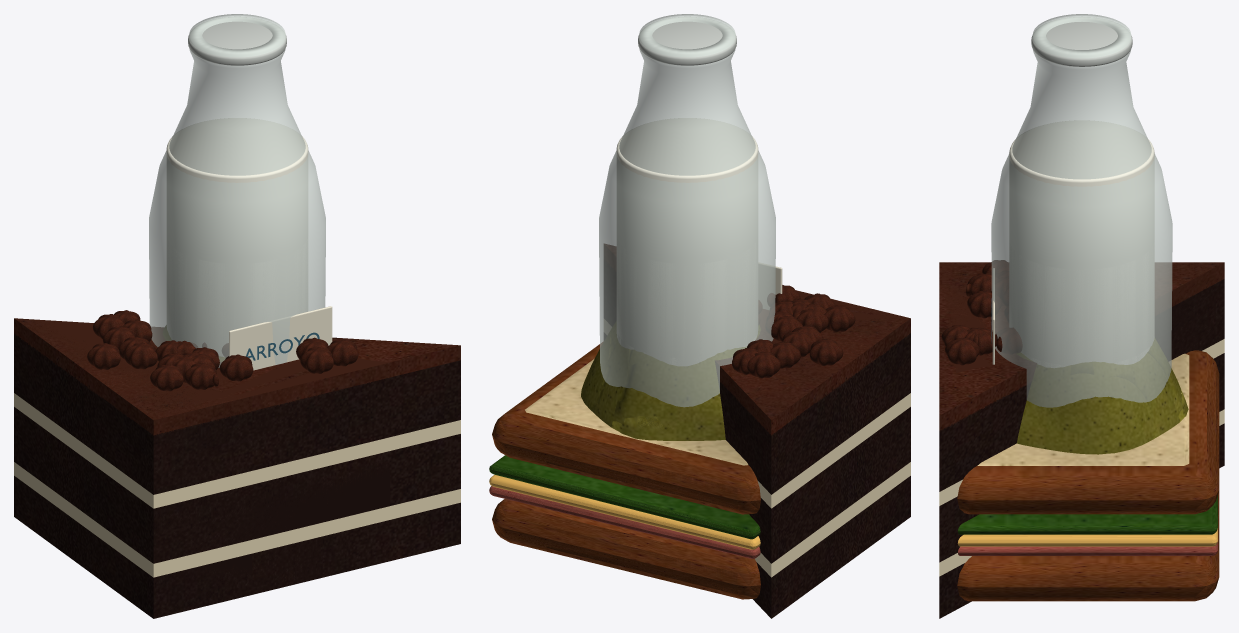
Rendered from pantry-food.glb.
3 views of the same model, side by side, from view 1: azimuth 30°, elevation 25°; view 2: azimuth 150°, elevation 25°; view 3: azimuth 270°, elevation 25° (orthographic). The views are drawn at different scales.
Visible parts, largest first — view 1: Milk bottle thick open neck, Milk bottle thick open neck.001, Chocolate cake Chocolate layer cake crumb.002, Milk remaining volume, Chocolate cake Chocolate layer cake crumb.001, Chocolate cake Chocolate layer cake crumb, Chocolate cake Cocoa buttercream frosting, Chocolate cake Chocolate layer cake crumb.004, Chocolate cake Vanilla cream filling.001, Chocolate cake Cocoa buttercream frosting.001, Chocolate cake Vanilla cream filling, Chocolate cake Cocoa buttercream frosting.002 (+19 smaller); view 2: Milk bottle thick open neck, Milk bottle thick open neck.001, Milk remaining volume, Sandwich golden crust.001, Chocolate cake Chocolate layer cake crumb.002, pear irregular skin, Chocolate cake Cocoa buttercream frosting, Sandwich golden crust, Chocolate cake Chocolate layer cake crumb.001, Chocolate cake Chocolate layer cake crumb, Sandwich Ruffled lettuce green, Sandwich golden crust.003 (+27 smaller); view 3: Milk bottle thick open neck, Milk bottle thick open neck.001, Milk remaining volume, Sandwich golden crust.001, pear irregular skin, Sandwich golden crust, Chocolate cake Cocoa buttercream frosting, Chocolate cake Chocolate layer cake crumb.002, Milk remaining volume.001, Sandwich Ruffled lettuce green, Sandwich tender crumb.001, Rolled aluminium neck lip (+21 smaller).
Part boxes in pixels (x1,y1,x2,y2): Milk bottle thick open neck: (149,14,325,367); Milk bottle thick open neck.001: (149,14,325,366); Chocolate cake Chocolate layer cake crumb.002: (14,333,460,494); Milk remaining volume: (166,118,308,356); Chocolate cake Chocolate layer cake crumb.001: (14,407,460,563); Chocolate cake Chocolate layer cake crumb: (14,476,460,618); Chocolate cake Cocoa buttercream frosting: (14,318,460,435); Chocolate cake Chocolate layer cake crumb.004: (153,453,390,563); Chocolate cake Vanilla cream filling.001: (14,393,460,508); Chocolate cake Cocoa buttercream frosting.001: (15,318,390,434); Chocolate cake Vanilla cream filling: (14,462,460,577); Chocolate cake Cocoa buttercream frosting.002: (18,318,319,434); Milk bottle thick open neck: (599,14,775,406); Milk bottle thick open neck.001: (599,14,775,406); Milk remaining volume: (616,118,758,365); Sandwich golden crust.001: (492,342,760,514); Chocolate cake Chocolate layer cake crumb.002: (604,260,910,494); pear irregular skin: (581,322,760,440); Chocolate cake Cocoa buttercream frosting: (604,244,910,435); Sandwich golden crust: (492,499,760,599); Chocolate cake Chocolate layer cake crumb.001: (604,333,910,563); Chocolate cake Chocolate layer cake crumb: (753,476,910,618); Sandwich Ruffled lettuce green: (489,455,760,539); Sandwich golden crust.003: (542,424,750,513); Milk bottle thick open neck: (991,14,1172,407); Milk bottle thick open neck.001: (992,14,1171,406); Milk remaining volume: (1009,120,1154,365); Sandwich golden crust.001: (957,350,1219,514); pear irregular skin: (1016,339,1188,454); Sandwich golden crust: (957,493,1219,601); Chocolate cake Cocoa buttercream frosting: (939,262,1224,430); Chocolate cake Chocolate layer cake crumb.002: (939,279,1224,491); Milk remaining volume.001: (1009,243,1154,367); Sandwich Ruffled lettuce green: (957,495,1217,534); Sandwich tender crumb.001: (977,353,1189,465); Rolled aluminium neck lip: (1031,17,1132,66).
Bounding box in the file's own units: 0.14 × 0.219 × 0.11.
17 materials, 9 textured.
